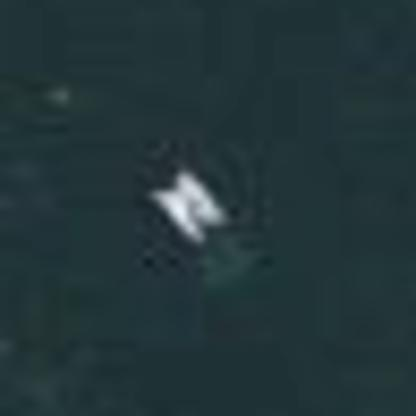ship: (140, 157, 232, 253)
